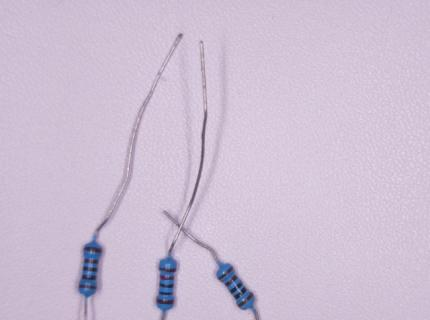Brown band: (224, 274, 238, 286), (84, 258, 99, 264)
